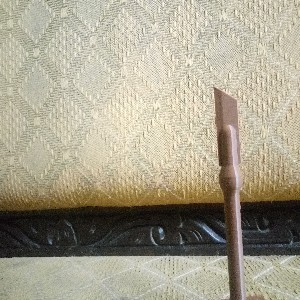cutter: (212, 85, 247, 300)
